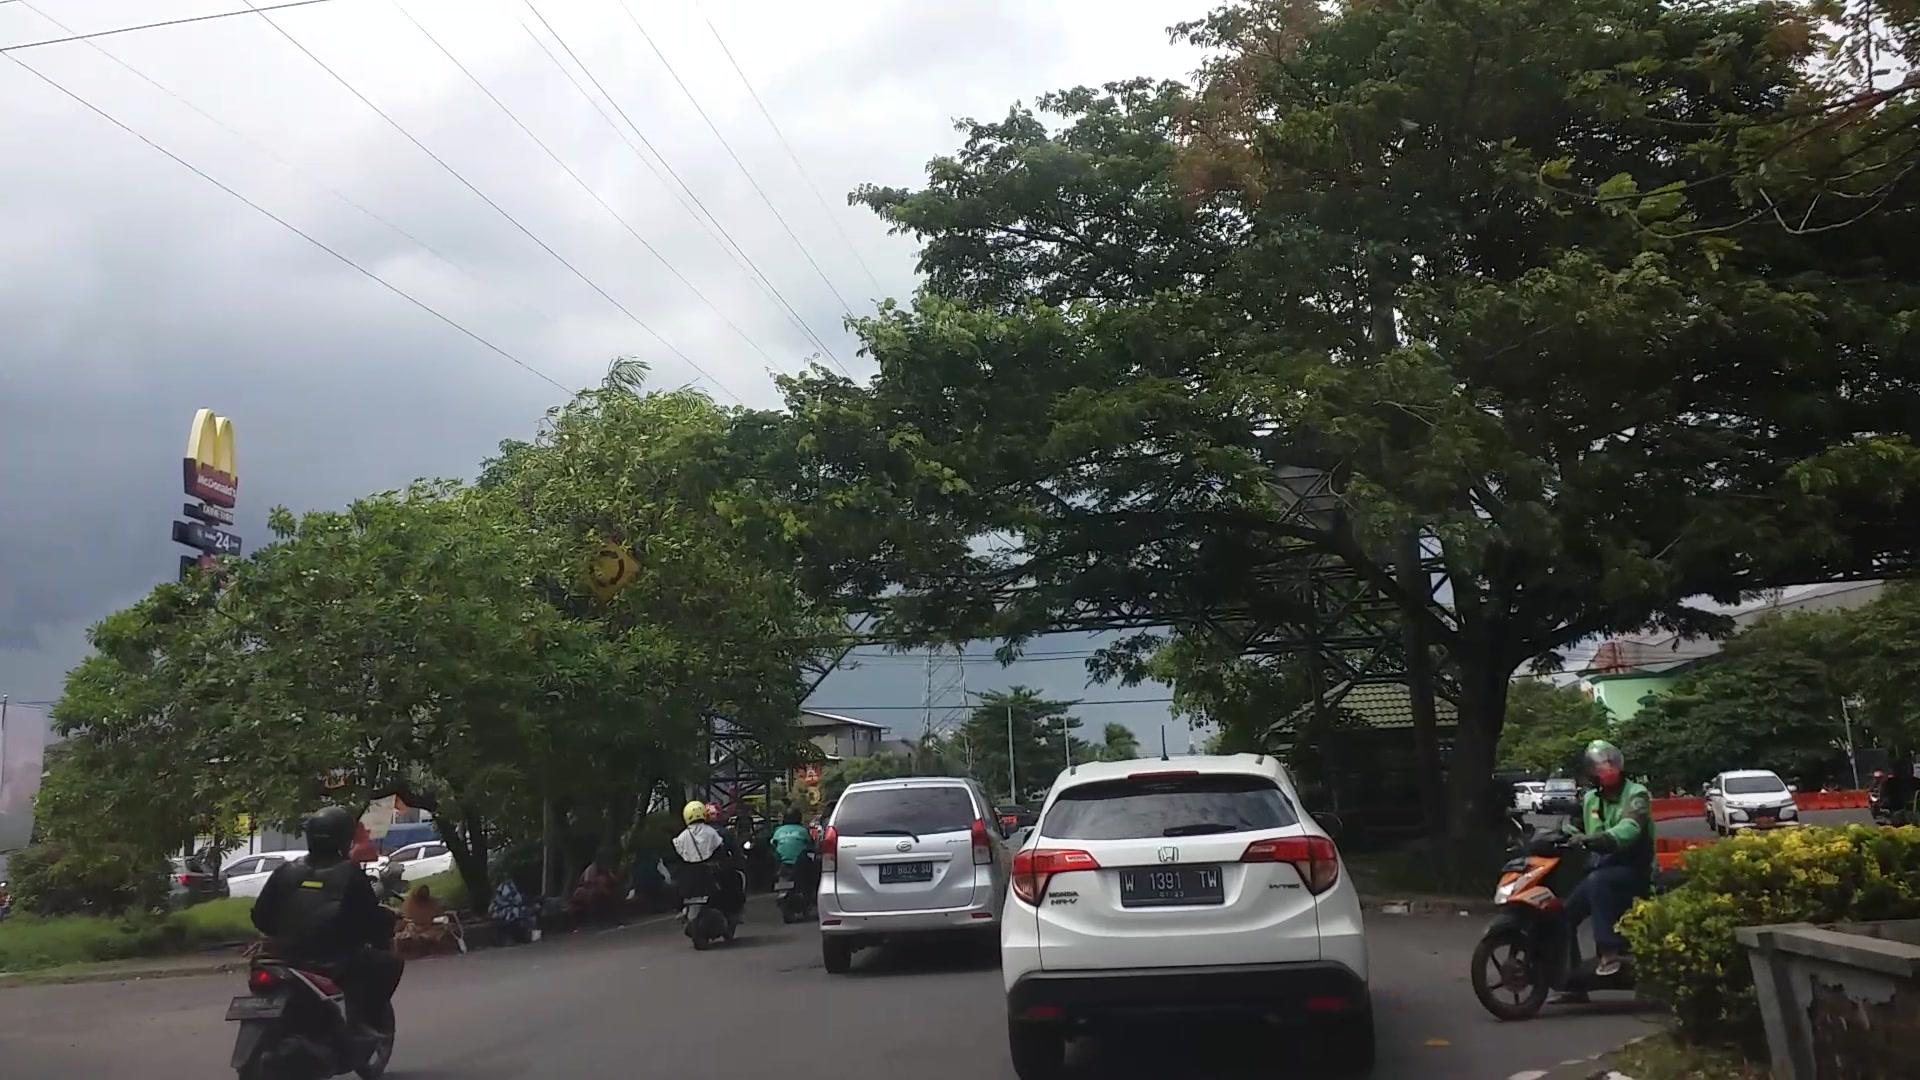plate_positive: (1120, 866, 1222, 907)
